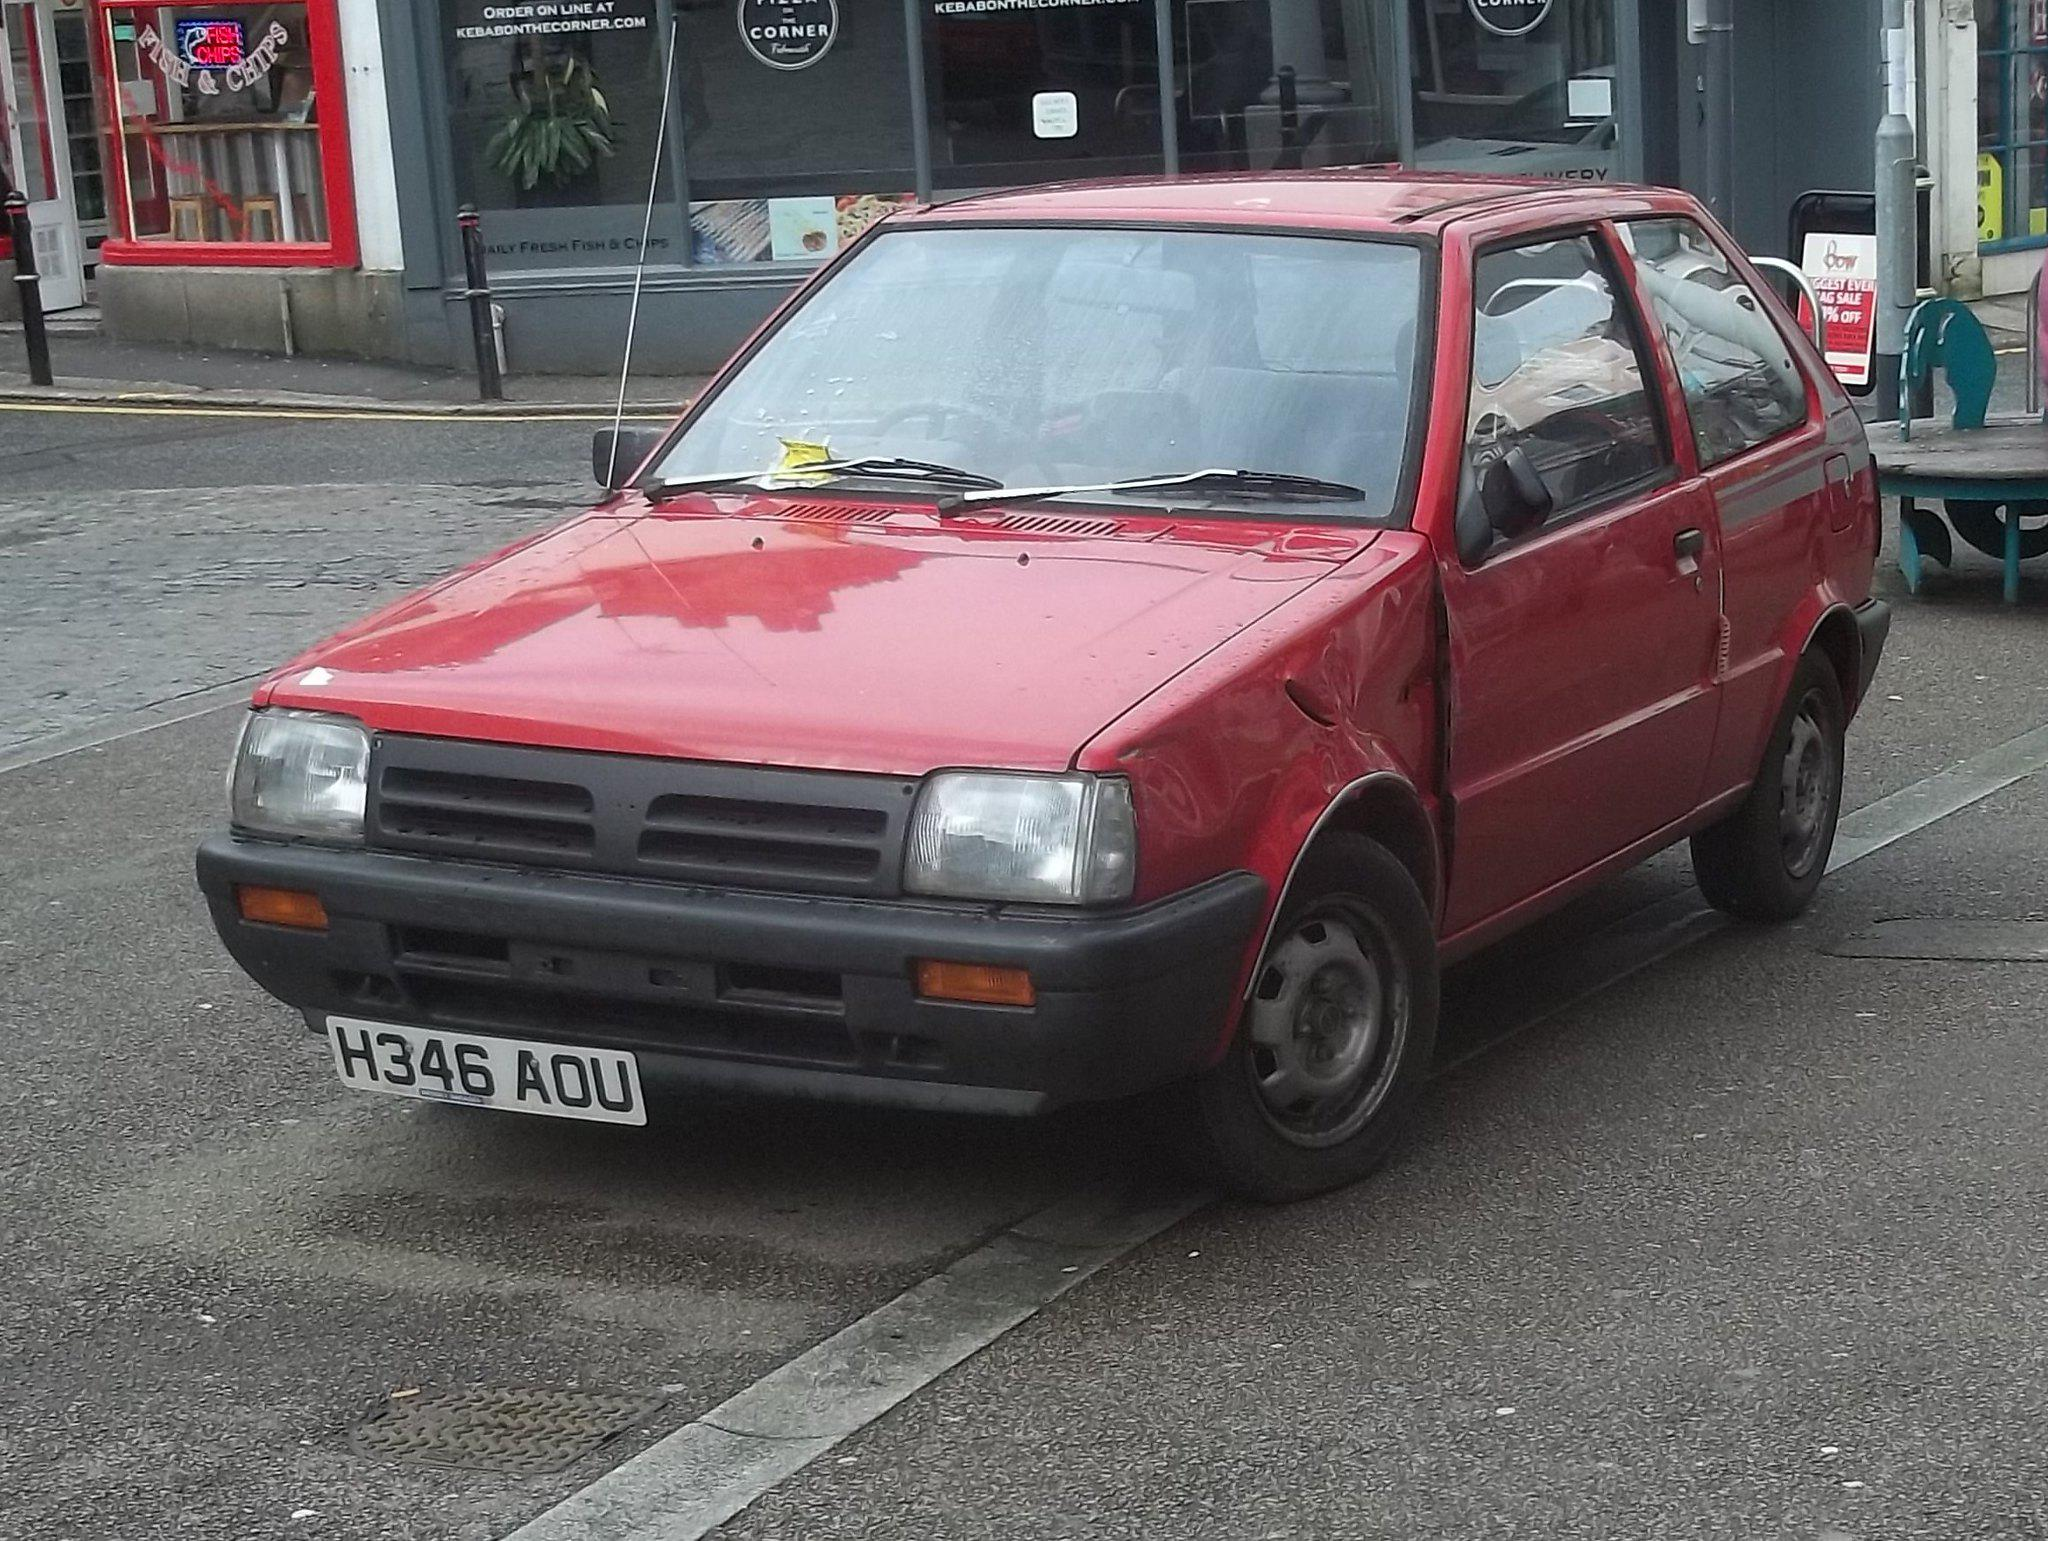fender-dent: (1107, 596, 1480, 940)
